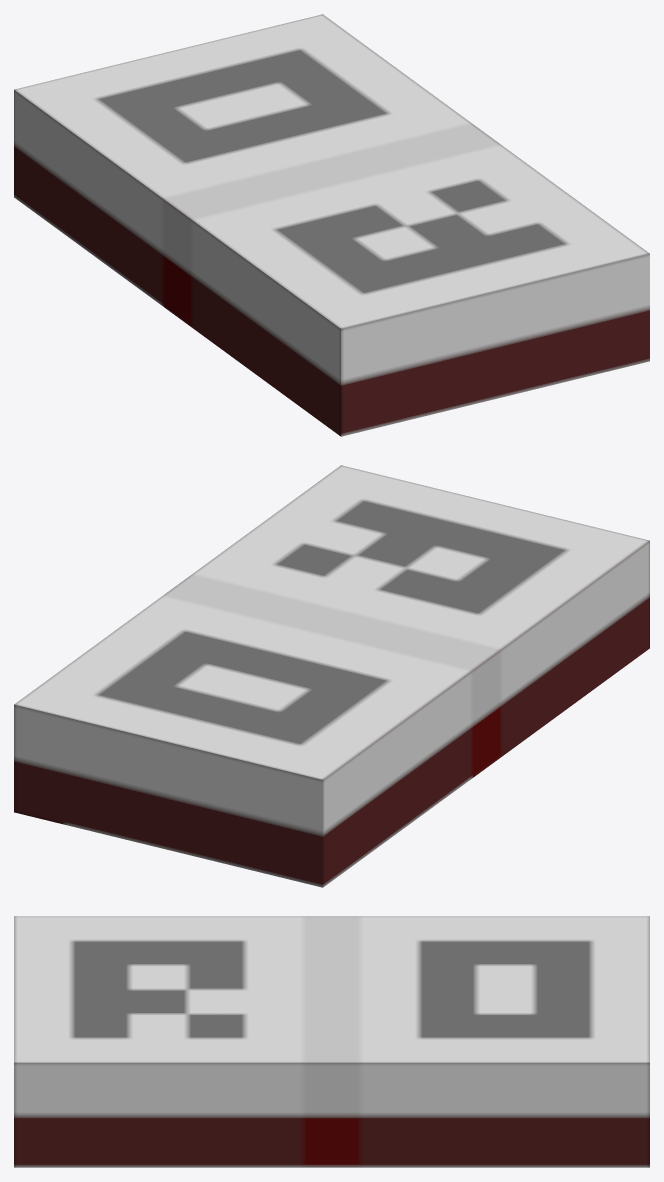
File: RedOpenBook_10.fbx
3 renders of one model, top to bottom at view 1: azimuth 30°, elevation 25°; view 2: azimuth 150°, elevation 25°; view 3: azimuth 270°, elevation 25°, orthographic. The views are drawn at different scales.
Parts seen in each view (by area): view 1: RedOpenBook_10.001; view 2: RedOpenBook_10.001; view 3: RedOpenBook_10.001.
Part boxes in pixels (x1=…): RedOpenBook_10.001: x1=14, y1=14, x2=649, y2=436; RedOpenBook_10.001: x1=14, y1=465, x2=649, y2=887; RedOpenBook_10.001: x1=14, y1=916, x2=649, y2=1167.
Bounding box in the file's own units: 0.6 × 0.2 × 1.1.
Materials: 1 (1 with a texture image).
